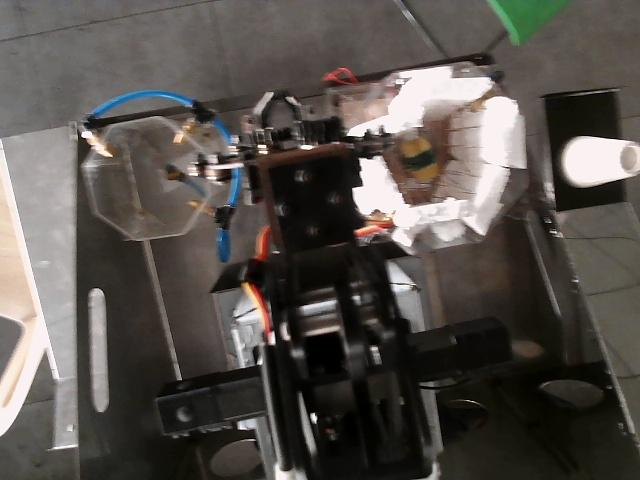cup: (561, 136, 639, 187)
